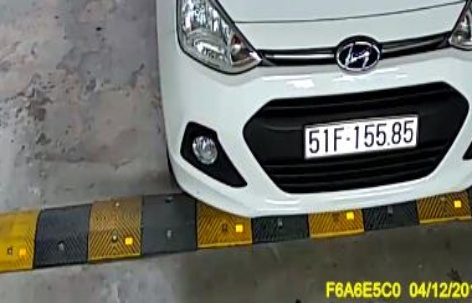plate: (301, 114, 424, 159)
